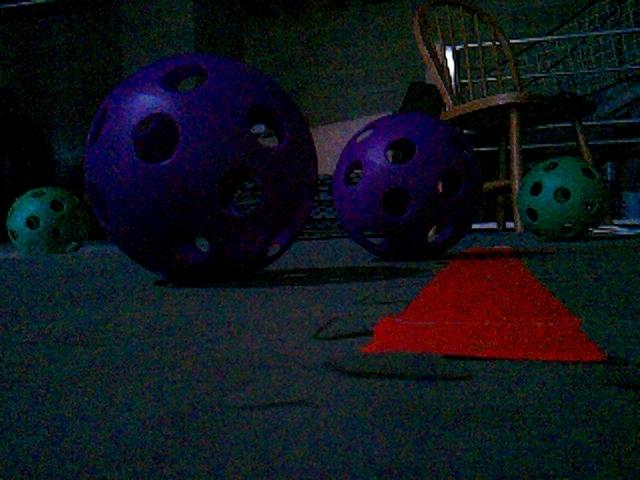Green: (514, 155, 608, 239), (5, 186, 90, 255)
Purple: (82, 56, 319, 280), (331, 114, 479, 259)
